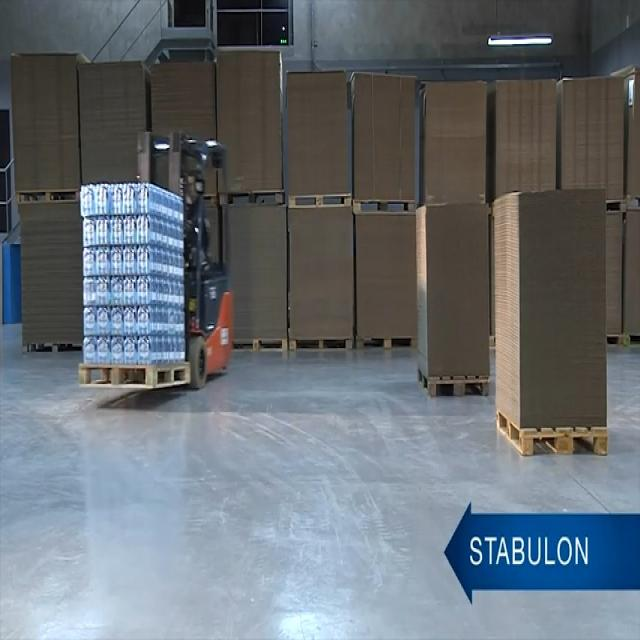Chariot elevateur: (136, 128, 235, 391)
Palette: (76, 352, 192, 401), (494, 413, 615, 459), (80, 360, 194, 399), (412, 360, 494, 408), (213, 181, 286, 216), (282, 185, 357, 219), (282, 331, 356, 361), (21, 335, 82, 368), (350, 192, 420, 219), (226, 327, 288, 357), (353, 327, 422, 353), (14, 186, 82, 210), (608, 322, 640, 356), (607, 196, 640, 221)
